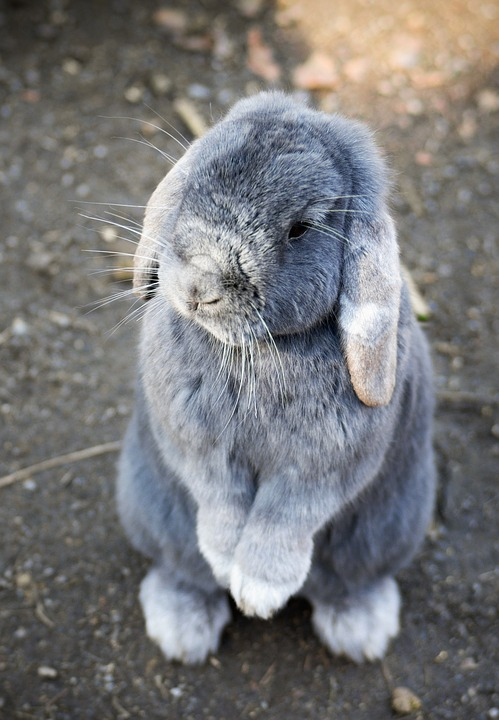bunny: (90, 75, 467, 685)
